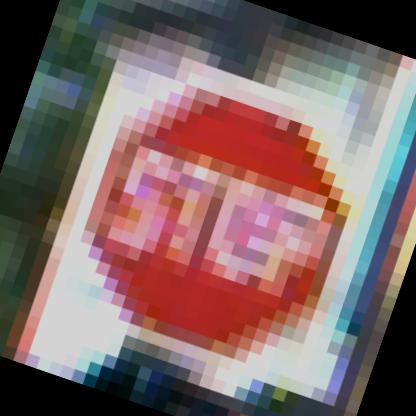stop: (41, 64, 390, 398)
